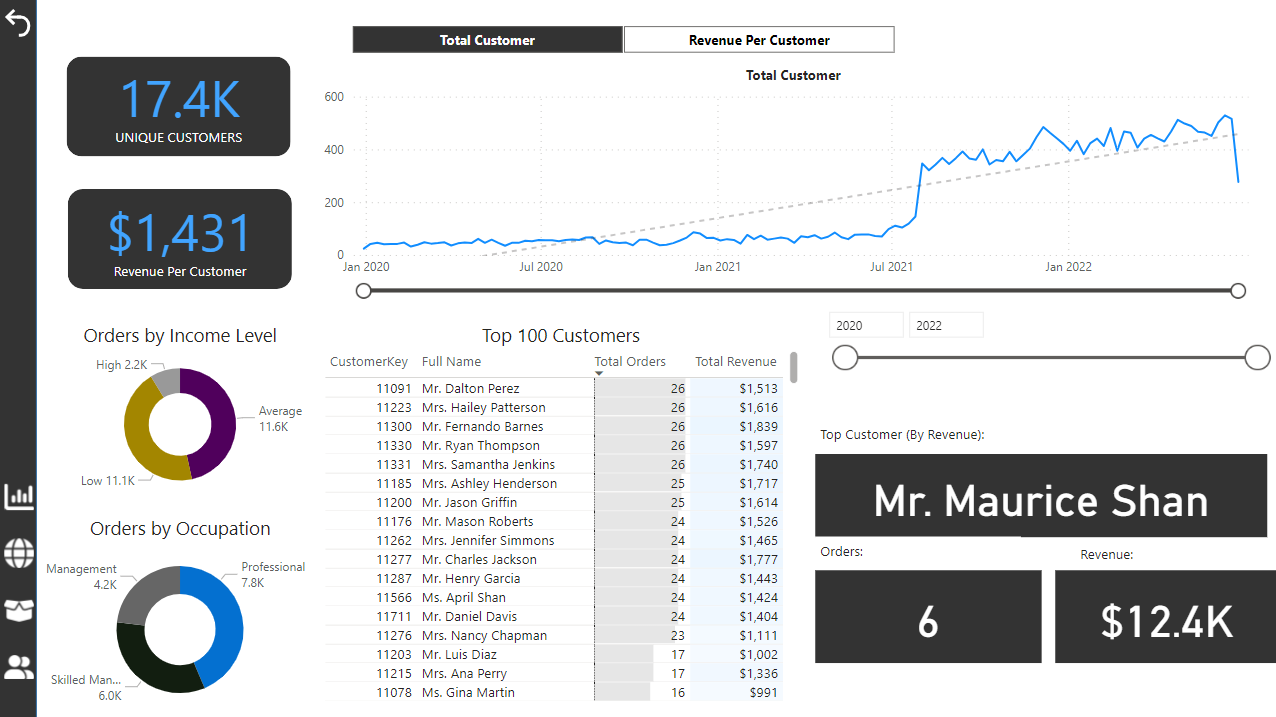

What the dashboard file says about the page in this screenshot:
{"tool":"powerbi","page":{"name":"Customer Detail","canvas":[1280,720],"ordinal":3},"visuals":[{"type":"slicer","fields":{"Values":["Customers.Customers"]},"box":[327.6,19.6,591.6,37.9],"z":0},{"type":"actionButton","box":[1.2,478,37.9,40.3],"z":0,"group":"g1"},{"type":"shape","box":[0,0,37.9,720],"z":1000},{"type":"actionButton","box":[1.2,591.3,37.9,40.3],"z":1000,"group":"g1"},{"type":"shape","box":[67.7,57.1,224.3,100],"z":2000},{"type":"actionButton","box":[1.2,647.9,37.9,40.3],"z":2000,"group":"g1"},{"type":"card","fields":{"Values":["Measure Table.Total Customer"]},"box":[40.6,22.9,280,165.7],"z":3000},{"type":"actionButton","box":[1.2,534.6,37.9,40.3],"z":3000,"group":"g1"},{"type":"shape","box":[68.6,189.6,224.3,100],"z":4000},{"type":"card","fields":{"Values":["Measure Table.Average Revenue Per Customer"]},"box":[41.6,156.5,279.9,166.2],"z":5000},{"type":"lineChart","fields":{"Y":["Measure Table.Total Customer"],"Category":["Calendar Lookup.Date Hierarchy.Start of Year","Calendar Lookup.Date Hierarchy.Start of Quarter","Calendar Lookup.Date Hierarchy.Start of Month","Calendar Lookup.Date Hierarchy.Start of Week"]},"box":[320.3,66,948.6,235.9],"z":6000},{"type":"donutChart","title":"Orders by Income Level","fields":{"Category":["Customer Lookup.Income Level"],"Y":["Measure Table.Total Orders"]},"box":[41.4,322.9,280,181.4],"z":7000},{"type":"donutChart","title":"Orders by Occupation","fields":{"Y":["Measure Table.Total Orders"],"Category":["Customer Lookup.Occupation"]},"box":[41.4,515.7,280,204.3],"z":8000},{"type":"tableEx","title":"Top 100 Customers","fields":{"Values":["Customer Lookup.CustomerKey","Customer Lookup.Full Name","Measure Table.Total Orders","Measure Table.Total Revenue"]},"box":[320.3,322.7,484.1,383.8],"z":9000},{"type":"card","fields":{"Values":["Min(Customer Lookup.Full Name)"]},"box":[816.6,454.7,452.3,83.1],"z":10000},{"type":"card","fields":{"Values":["Measure Table.Total Revenue"]},"box":[1056.2,570.9,223.7,92.9],"z":11000},{"type":"card","fields":{"Values":["Measure Table.Total Orders"]},"box":[816.6,570.9,226.1,92.9],"z":12000},{"type":"textbox","box":[816.6,421.7,182.1,33],"z":13000},{"type":"textbox","box":[816.6,537.9,205.4,29.3],"z":14000},{"type":"textbox","box":[1075.7,541.5,204.1,29.3],"z":15000},{"type":"slicer","fields":{"Values":["Calendar Lookup.Year"]},"box":[817.8,301.9,462.1,86.8],"z":16000},{"type":"actionButton","box":[0,0,37.9,47.7],"z":17000},{"type":"group","id":"g1","title":"Group 1","box":[1.2,478,37.9,210.3],"z":18000}]}

Visuals, with their boxes on the page's 1280x720 design canvas (x1, y1, x2, y2). These are canvas units, not pixel positions in the 1276x717 screenshot, which may show the page scaled, cropped or inside an application window:
slicer - Customers.Customers: [328,20,919,58]
actionButton: [1,478,39,518]
shape: [0,0,38,720]
actionButton: [1,591,39,632]
shape: [68,57,292,157]
actionButton: [1,648,39,688]
card - Measure Table.Total Customer: [41,23,321,189]
actionButton: [1,535,39,575]
shape: [69,190,293,290]
card - Measure Table.Average Revenue Per Customer: [42,156,322,323]
lineChart - Measure Table.Total Customer x Calendar Lookup.Date Hierarchy.Start of Year: [320,66,1269,302]
"Orders by Income Level" donutChart: [41,323,321,504]
"Orders by Occupation" donutChart: [41,516,321,720]
"Top 100 Customers" tableEx: [320,323,804,706]
card - Min(Customer Lookup.Full Name): [817,455,1269,538]
card - Measure Table.Total Revenue: [1056,571,1280,664]
card - Measure Table.Total Orders: [817,571,1043,664]
textbox: [817,422,999,455]
textbox: [817,538,1022,567]
textbox: [1076,542,1280,571]
slicer - Calendar Lookup.Year: [818,302,1280,389]
actionButton: [0,0,38,48]
"Group 1" group: [1,478,39,688]
